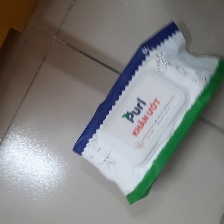Puri Trang: (72, 21, 223, 207)
